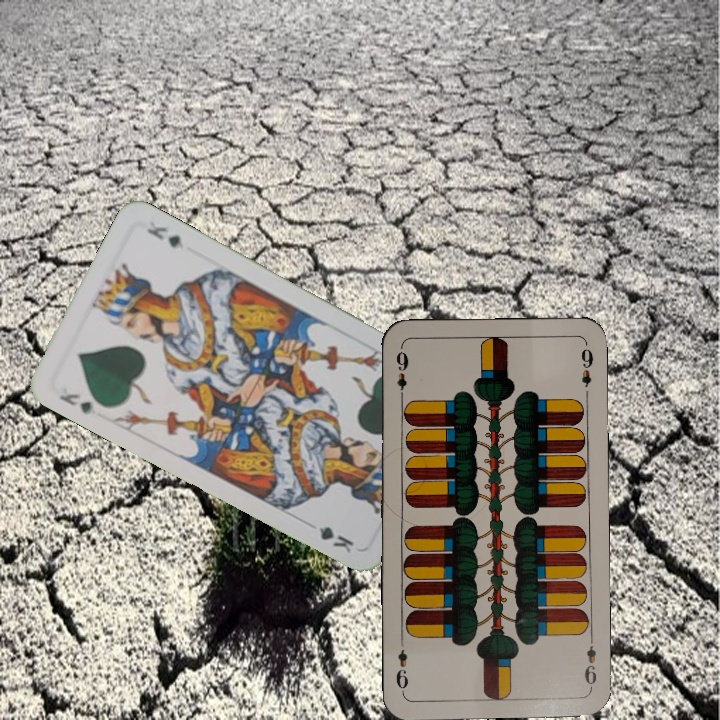E9: (580, 632, 599, 691), (392, 348, 411, 404)
GK: (55, 389, 99, 418)
